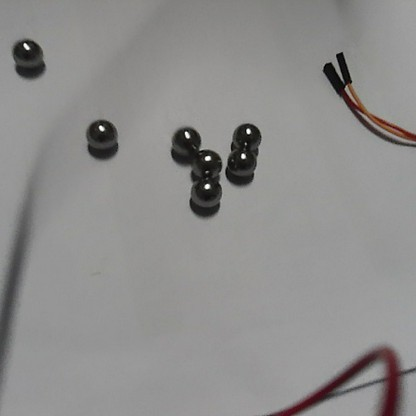ironball: (80, 117, 120, 156), (9, 35, 46, 75), (165, 119, 201, 156), (189, 174, 223, 212), (230, 117, 263, 152), (225, 144, 257, 180), (189, 148, 222, 177)
